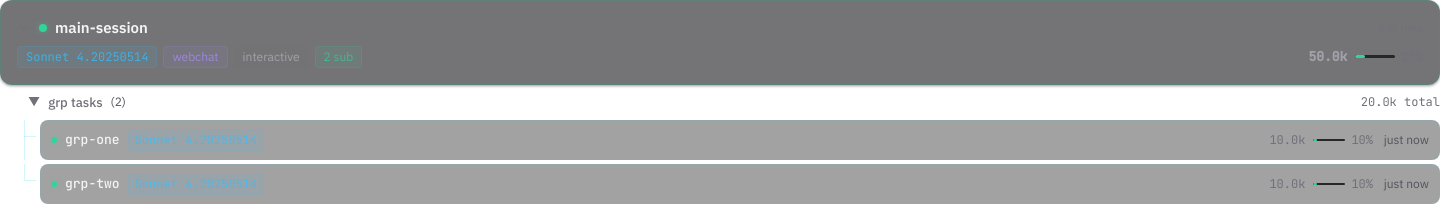
Scenario: SessionGroup › can collapse/expand a SubAgentGroup
expect the text "grp-one" is shown: met, box [65,130,120,150]
Note: Click the group header button to collapse
What coordinates should you click on to do the following:
click the text "grp tasks"
I would click on:
 (75, 102)
Its box is [48,92,103,112].
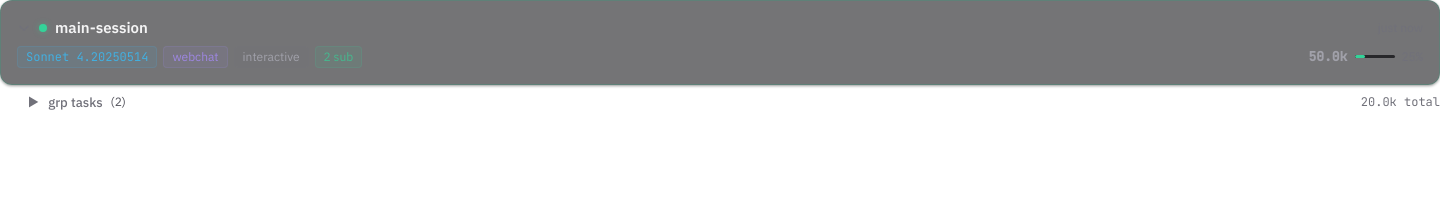
expect the button "grp-one" is gone: met
